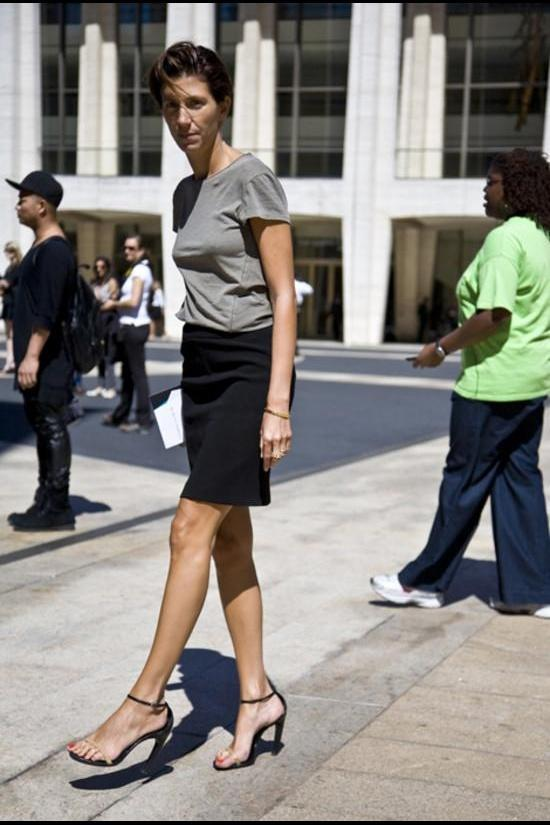Tshirt: (174, 153, 294, 335), (448, 215, 550, 404), (3, 236, 80, 370)
pants: (398, 390, 550, 606)
skirt: (180, 321, 296, 505)
